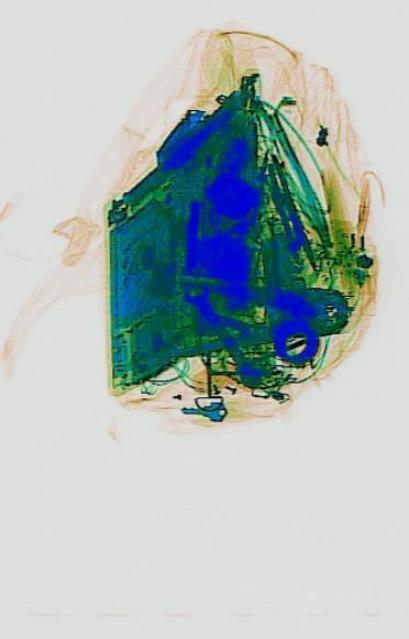Pliers: (175, 274, 346, 355)
Wrench: (180, 270, 263, 399)
